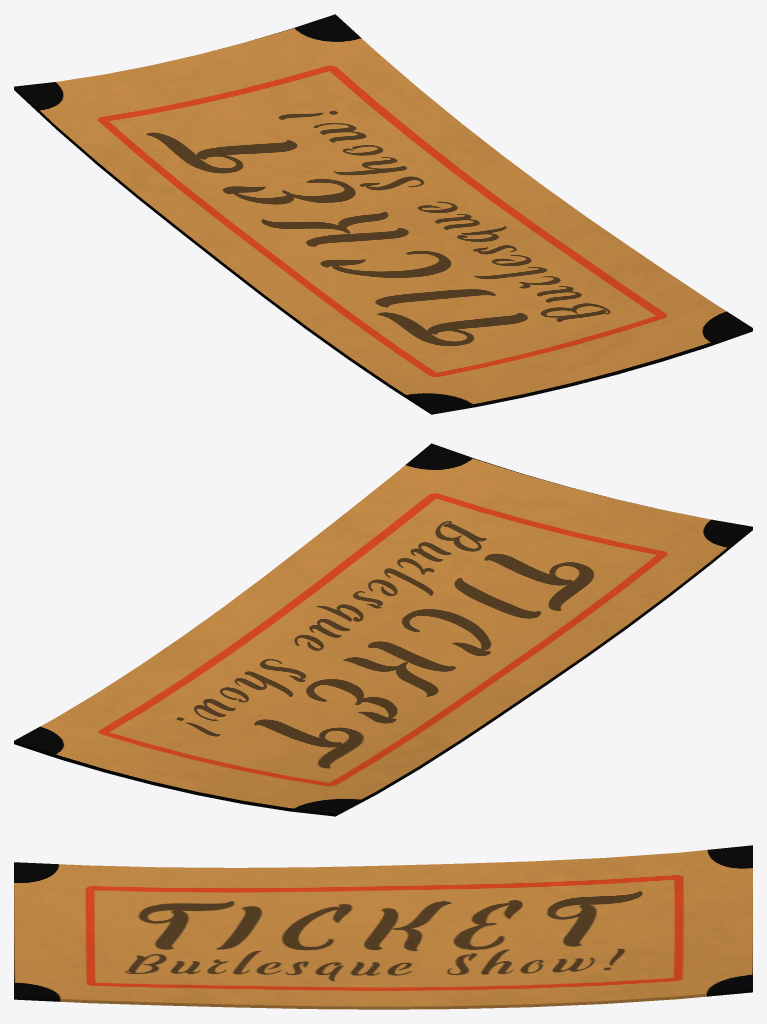
Rendered from Ticket.glb.
3 views of the same model, one above another, from view 1: azimuth 30°, elevation 25°; view 2: azimuth 150°, elevation 25°; view 3: azimuth 270°, elevation 25° (orthographic). The views are drawn at different scales.
Visible parts, largest first — view 1: Ticket; view 2: Ticket; view 3: Ticket.
Part boxes in pixels (x1=…): Ticket: x1=14, y1=14, x2=752, y2=414; Ticket: x1=14, y1=443, x2=752, y2=816; Ticket: x1=14, y1=845, x2=752, y2=1009.
Bounding box in the file's own units: 2 × 0.2044 × 4.5.
Materials: 1 (1 with a texture image).
